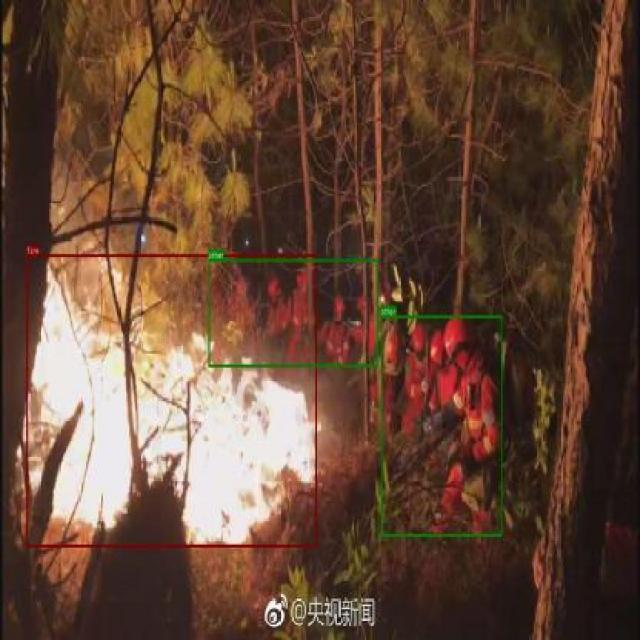Fire: (26, 254, 317, 546)
